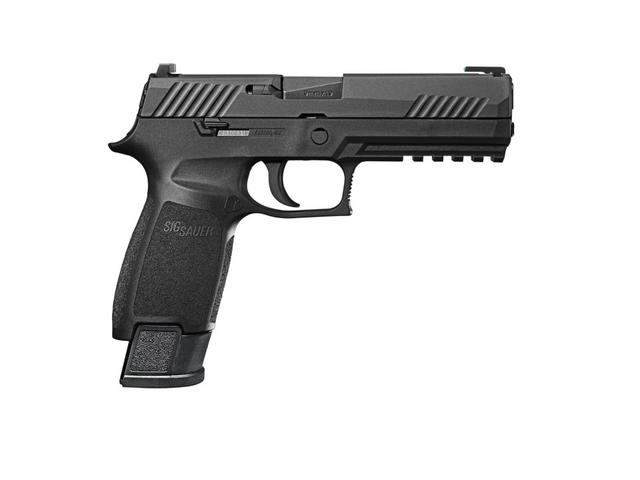pistol: (103, 61, 518, 392)
